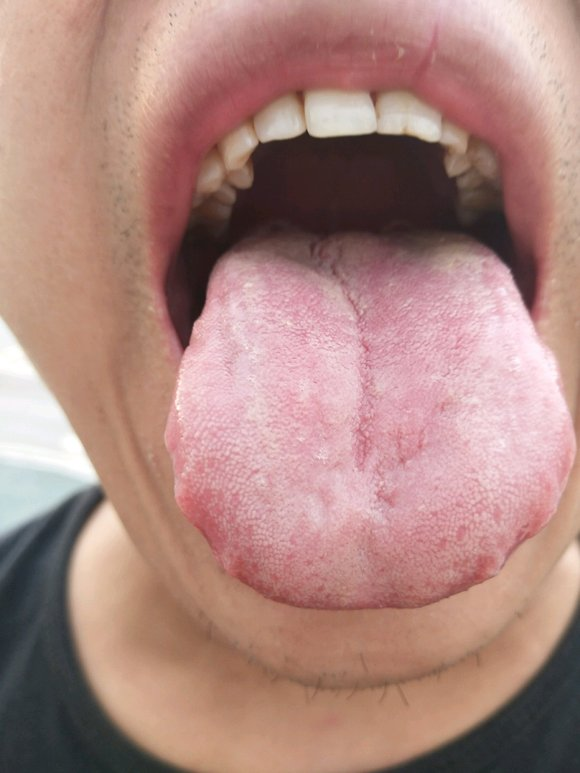baitaishe: (164, 217, 578, 609)
